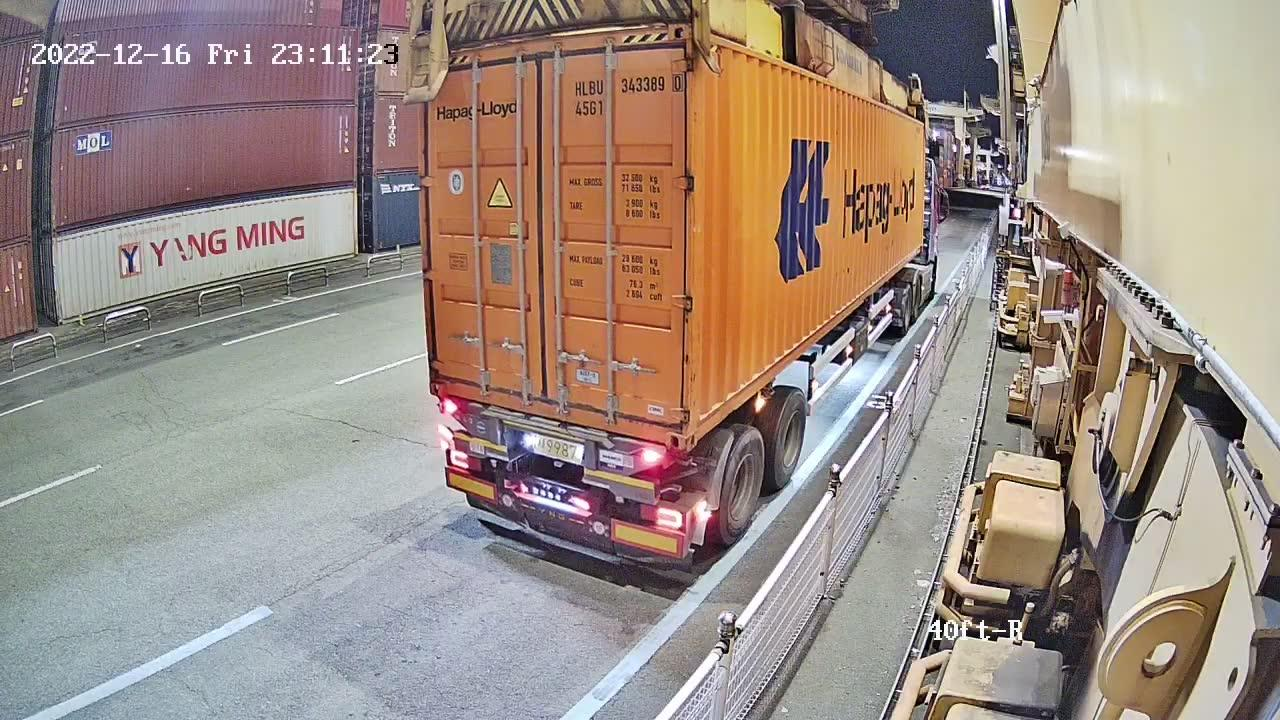Chassis: (442, 401, 668, 477)
Cone: (665, 450, 701, 471), (430, 396, 449, 415)
Hole_L: (683, 388, 717, 448), (428, 358, 469, 401)
Hole_R: (641, 402, 684, 449)
Tire: (720, 433, 766, 536), (766, 392, 807, 485)
